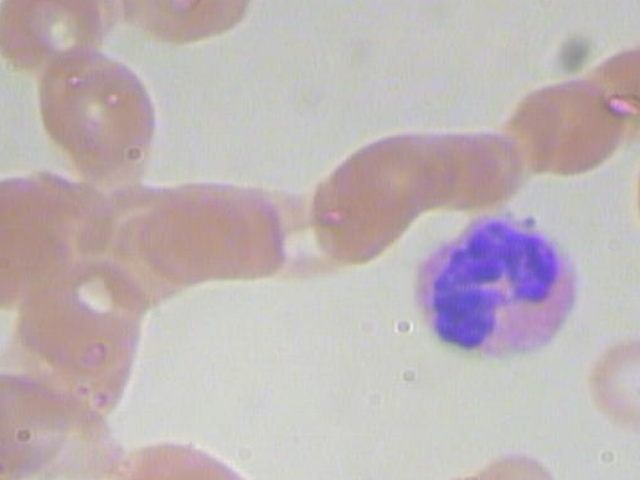RBC: (18, 39, 177, 182), (233, 180, 358, 288), (175, 179, 299, 287), (142, 186, 267, 293), (505, 70, 628, 177), (0, 0, 134, 79), (104, 0, 261, 52), (576, 336, 640, 431)
WBC: (397, 206, 607, 375)
